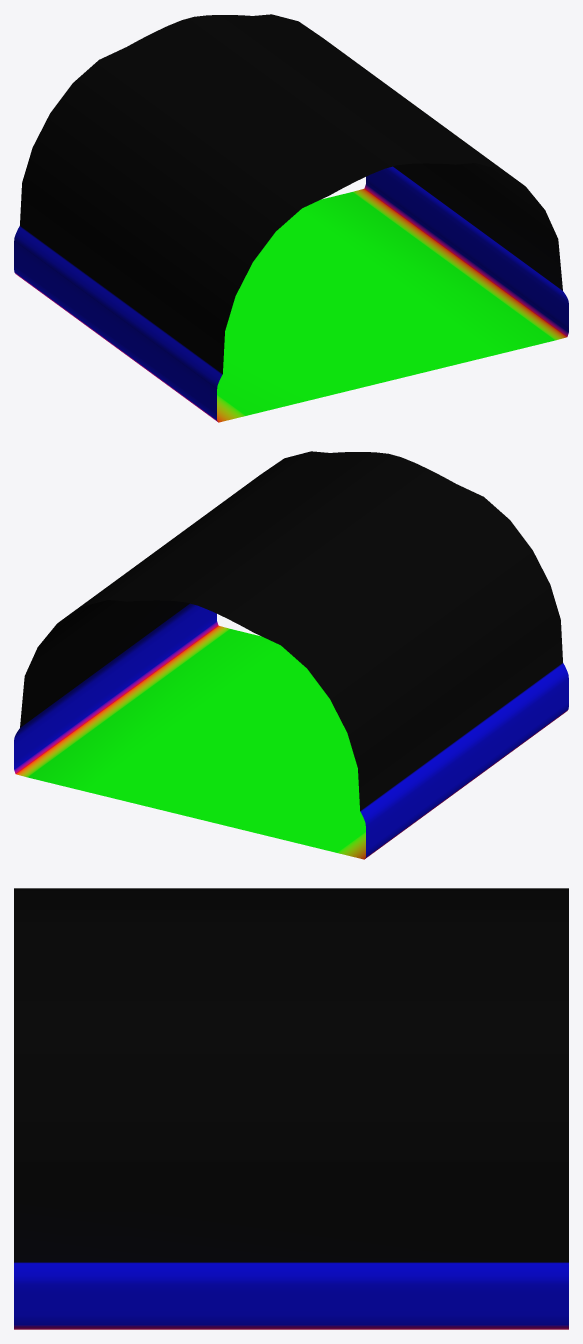
Rendered from GiantTunnelV1Base_2Mats.fbx.
The picture shows the model from 3 angles, top to bottom: view 1: azimuth 30°, elevation 25°; view 2: azimuth 150°, elevation 25°; view 3: azimuth 270°, elevation 25°; orthographic projection. The views are drawn at different scales.
Visible parts, largest first — view 1: GiantTunnelV1Base; view 2: GiantTunnelV1Base; view 3: GiantTunnelV1Base.
Boxes of the visible parts, x1=… form: GiantTunnelV1Base: x1=14, y1=14, x2=568, y2=422; GiantTunnelV1Base: x1=14, y1=451, x2=568, y2=859; GiantTunnelV1Base: x1=14, y1=888, x2=568, y2=1329.
Bounding box in the file's own units: 2003 × 1162 × 2000.
